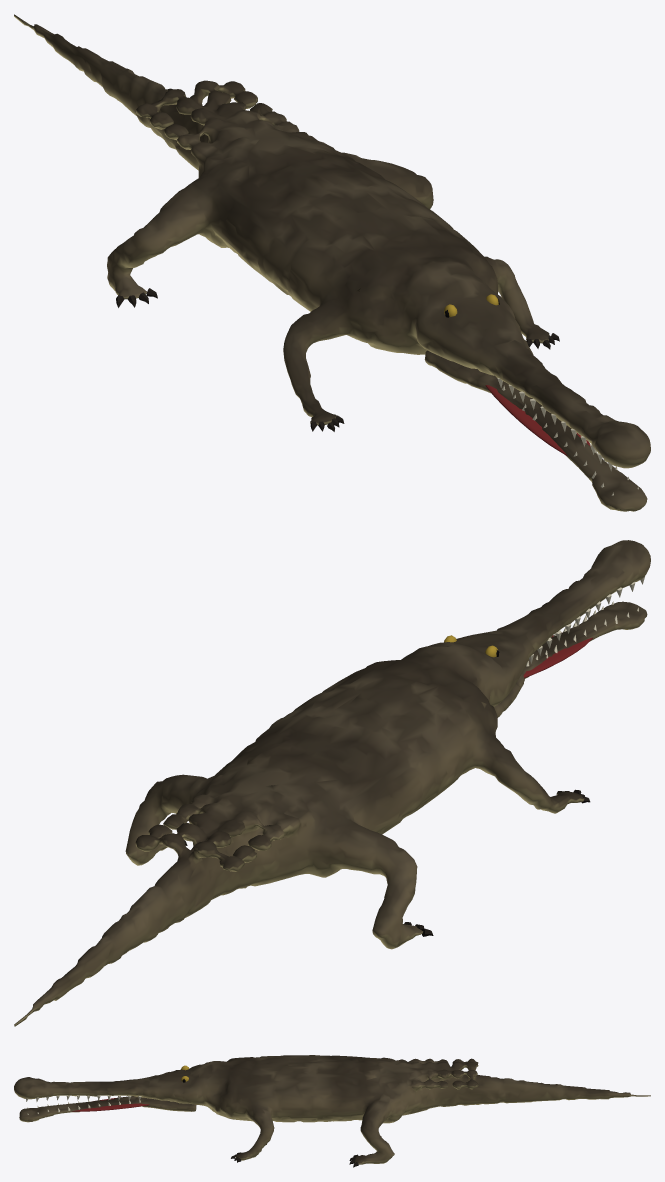
The model's file is Sarcosuchus.fbx.
3 views of the same model, one above another, from view 1: azimuth 30°, elevation 25°; view 2: azimuth 150°, elevation 25°; view 3: azimuth 270°, elevation 25° (orthographic). The views are drawn at different scales.
Parts seen in each view (by area): view 1: Sarcosuchus; view 2: Sarcosuchus; view 3: Sarcosuchus.
Part boxes in pixels (<box>): Sarcosuchus: <box>14,14,650,511</box>; Sarcosuchus: <box>14,540,650,1026</box>; Sarcosuchus: <box>14,1055,650,1167</box>.
Size of the model in its own units: 0.5937 by 0.236 by 2.03.
